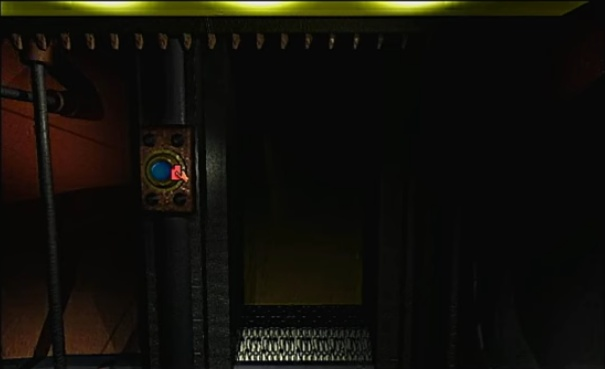Keep: (168, 163, 193, 184)
